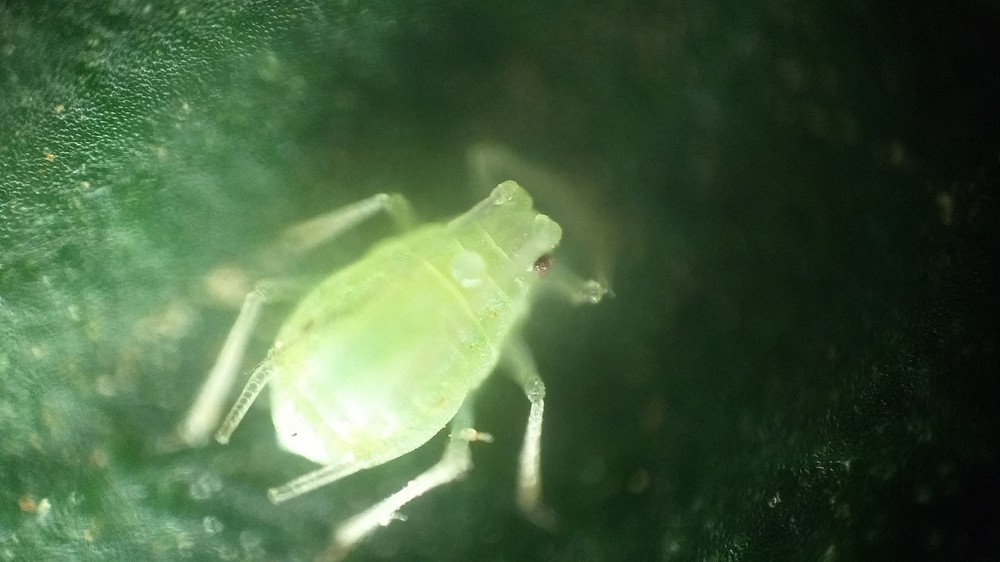Pulgon: (162, 128, 642, 553)
